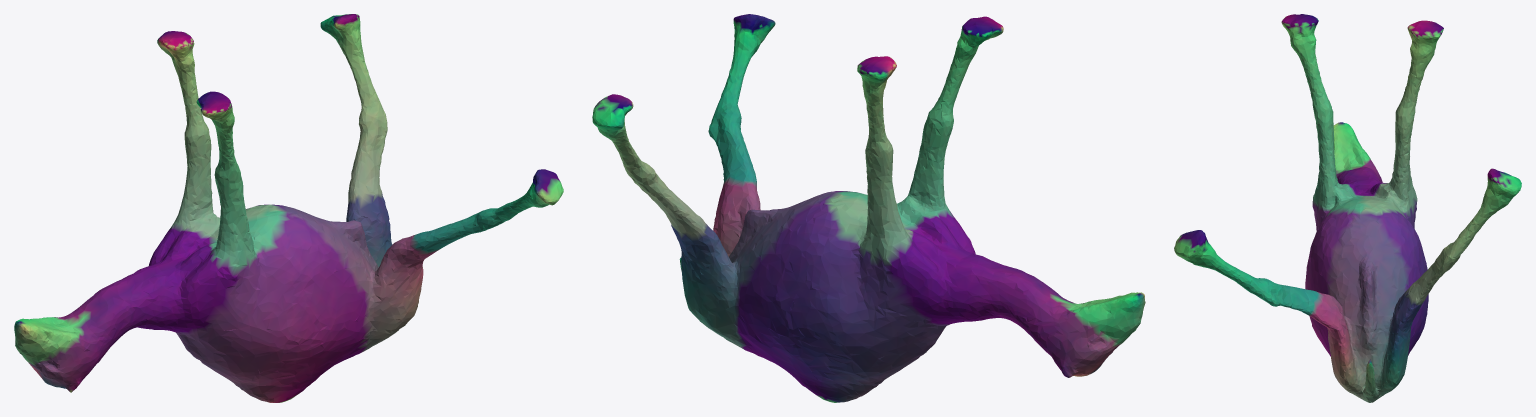
File: camel-8.off.obj
3 renders of one model, left to right at view 1: azimuth 30°, elevation 25°; view 2: azimuth 150°, elevation 25°; view 3: azimuth 270°, elevation 25°, orthographic. The views are drawn at different scales.
Size of the model in its own units: 1.54 by 1.15 by 1.08.
